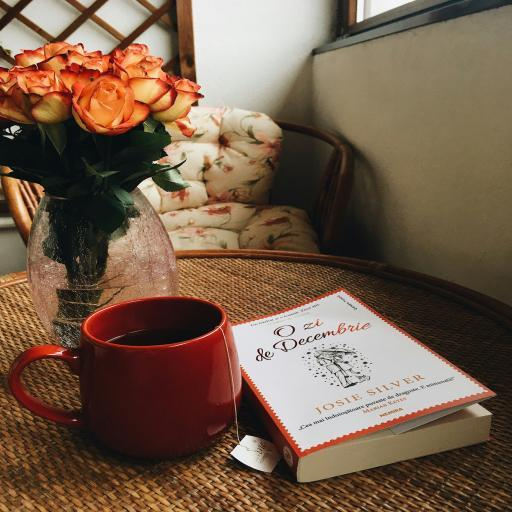cup: (8, 296, 242, 460)
